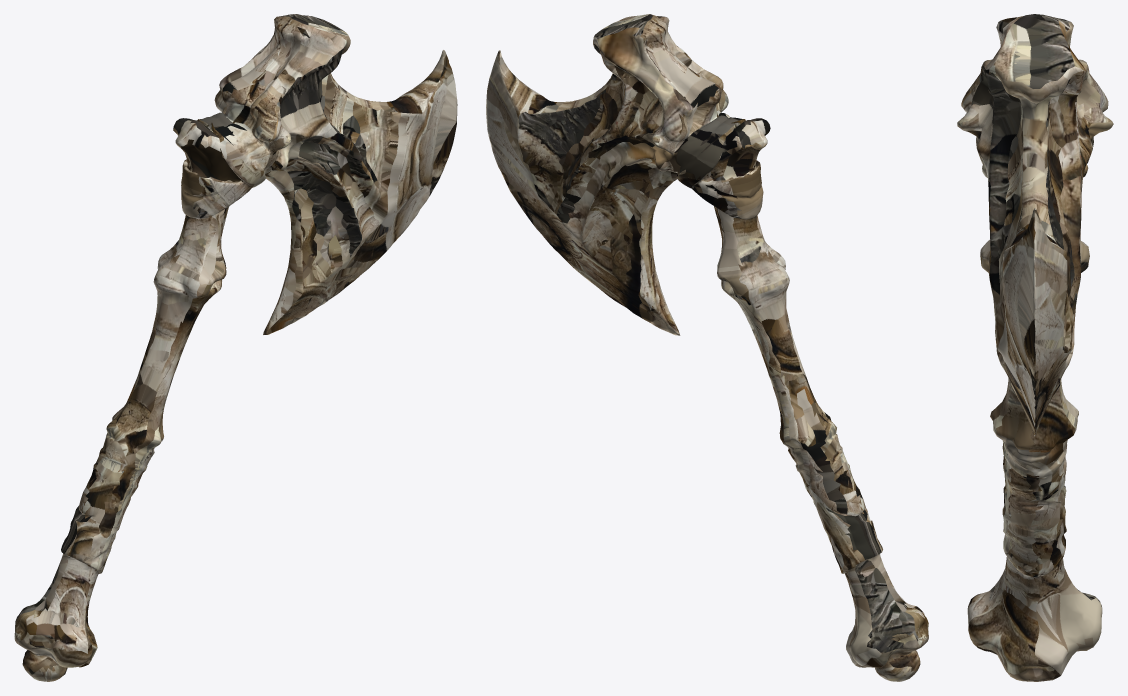
File: SynthAxe_model.obj
3 views of the same model, side by side, from view 1: azimuth 30°, elevation 25°; view 2: azimuth 150°, elevation 25°; view 3: azimuth 270°, elevation 25° (orthographic). The views are drawn at different scales.
Parts seen in each view (by area): view 1: surface_7; view 2: surface_7; view 3: surface_7.
Boxes of the visible parts, <box> form: surface_7: <box>14,14,457,681</box>; surface_7: <box>486,14,928,681</box>; surface_7: <box>957,14,1113,681</box>.
Size of the model in its own units: 0.7654 by 0.9998 by 0.1724.
